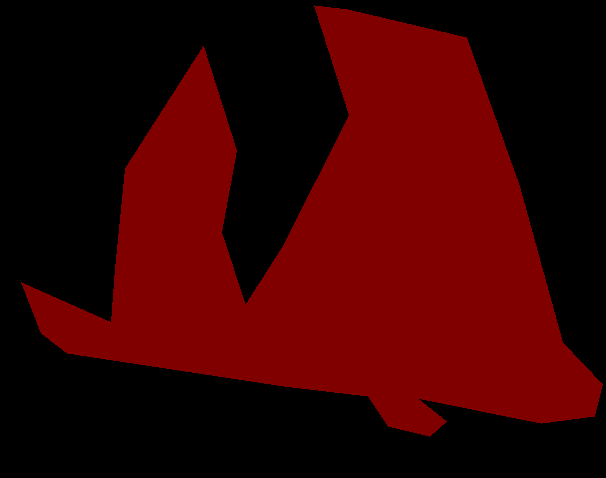fire: (21, 5, 602, 436)
